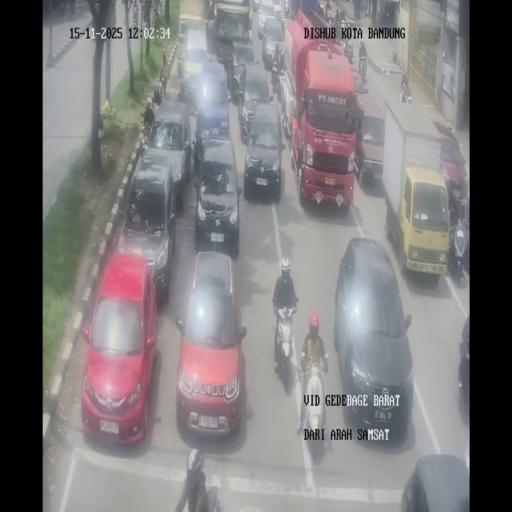car: (334, 241, 414, 443), (81, 254, 159, 445), (174, 252, 247, 440), (118, 156, 178, 294), (194, 140, 242, 256), (238, 63, 273, 141), (176, 26, 210, 103), (261, 17, 285, 68), (272, 0, 282, 18), (252, 0, 262, 13)
motorcycle: (298, 355, 329, 456), (271, 301, 299, 392), (448, 206, 470, 279), (456, 351, 470, 418), (188, 86, 202, 118), (270, 60, 282, 94), (140, 116, 153, 142), (340, 17, 354, 40), (344, 38, 354, 64), (152, 80, 162, 106), (359, 52, 367, 78), (97, 114, 105, 140), (400, 87, 412, 104), (132, 0, 139, 22), (360, 0, 369, 17), (284, 0, 292, 18), (208, 0, 215, 19), (338, 8, 346, 24), (325, 10, 332, 26), (110, 0, 116, 18), (318, 1, 324, 16), (376, 10, 382, 23), (127, 0, 132, 12)
truck: (280, 6, 360, 214), (382, 95, 458, 279), (352, 86, 385, 188), (213, 2, 252, 72)
